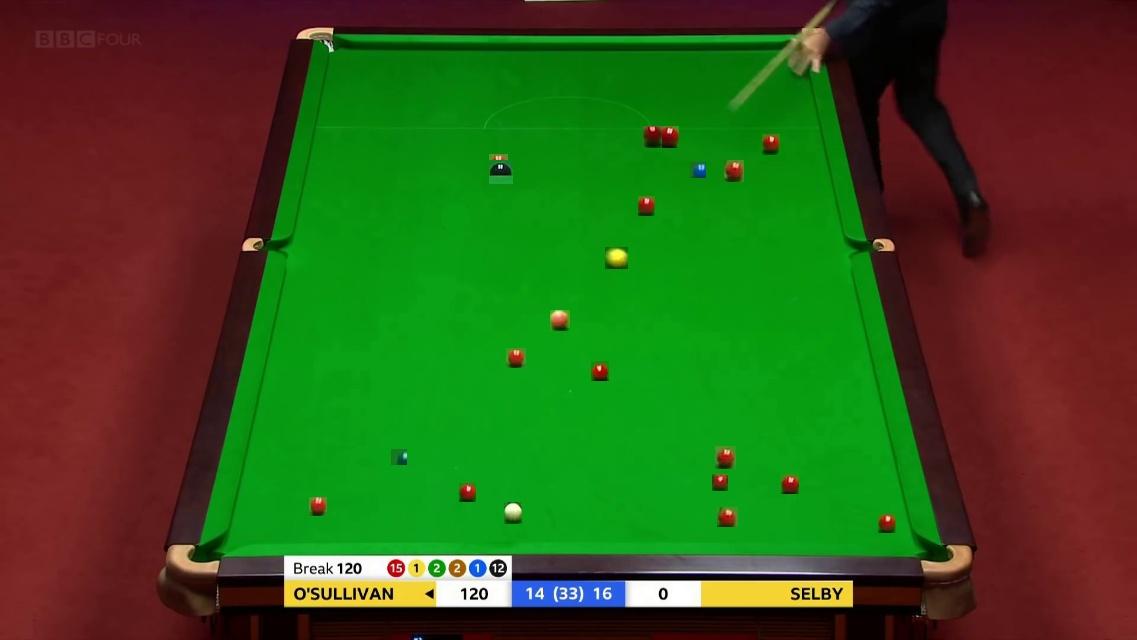black: (489, 160, 513, 184)
blue: (690, 162, 706, 178)
brown: (643, 126, 665, 145)
green: (391, 449, 407, 465)
pink: (550, 310, 571, 330)
red: (657, 126, 679, 148), (715, 446, 738, 467), (724, 160, 746, 180), (717, 507, 737, 528), (506, 348, 526, 368), (489, 154, 510, 173), (762, 134, 783, 152), (781, 474, 801, 492), (591, 361, 611, 379), (309, 497, 328, 515), (878, 514, 897, 532), (638, 196, 658, 213), (459, 483, 478, 500), (712, 474, 729, 490)
white: (504, 502, 526, 520)
yellow: (605, 247, 627, 270)
